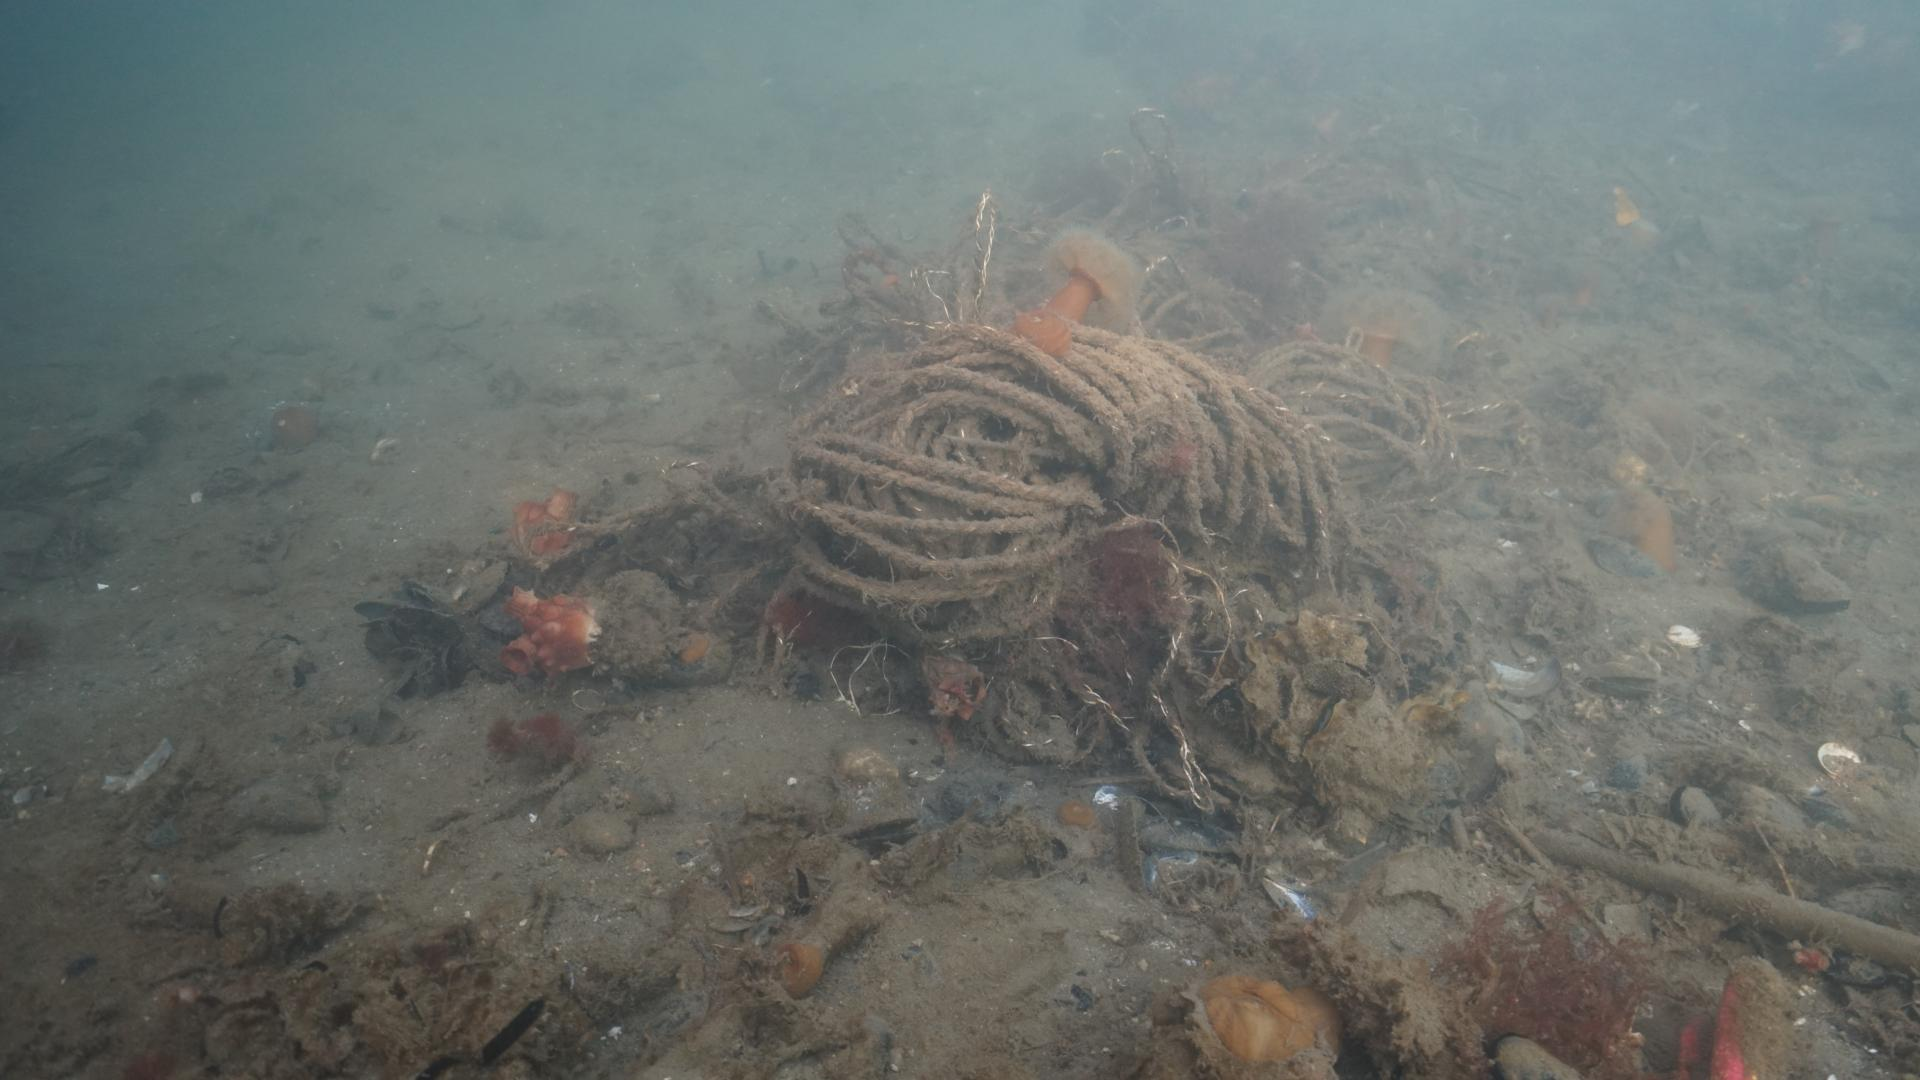bundle of ropes: (651, 196, 1480, 818)
